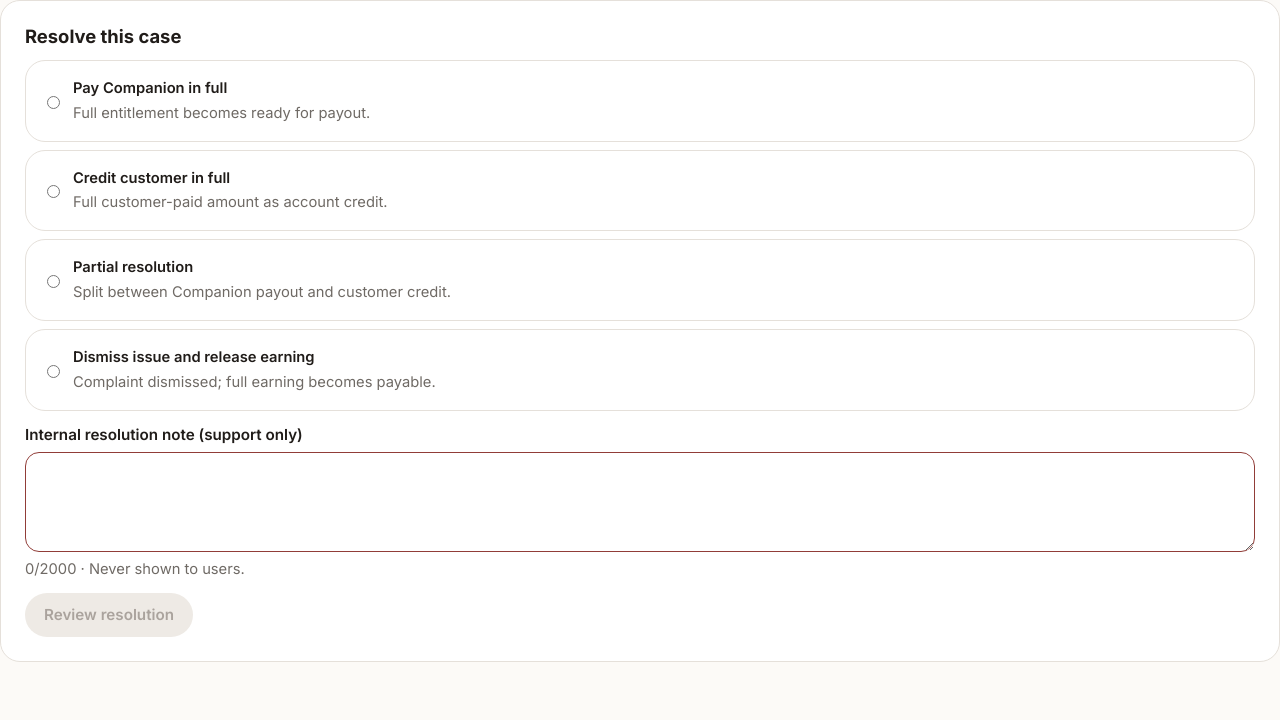
it: IssueResolutionForm › full customer credit confirmation explains no card refund
Click the 2nd radio button at {"x": 54, "y": 192}, box top-left (47, 185), bottom-right (60, 198)
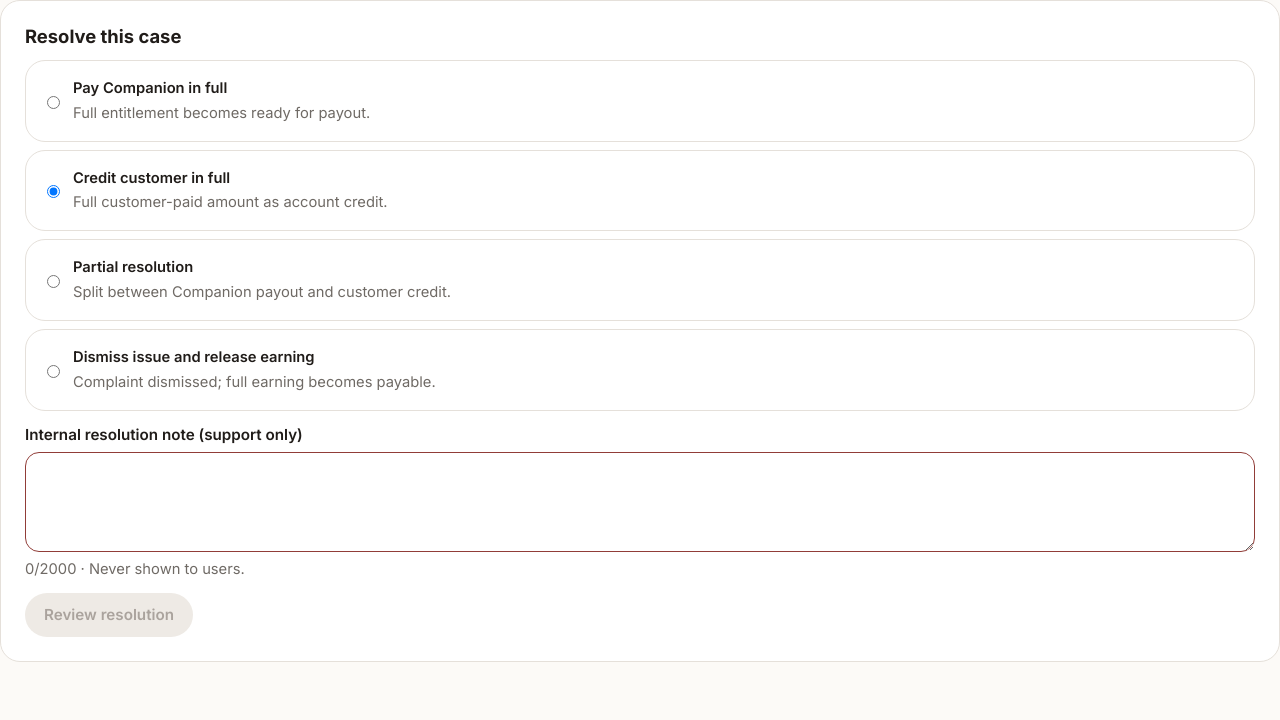
Type "Full credit" into the text box labelled "Internal resolution note (support only)" at {"x": 640, "y": 502}, box top-left (25, 452), bottom-right (1255, 552)
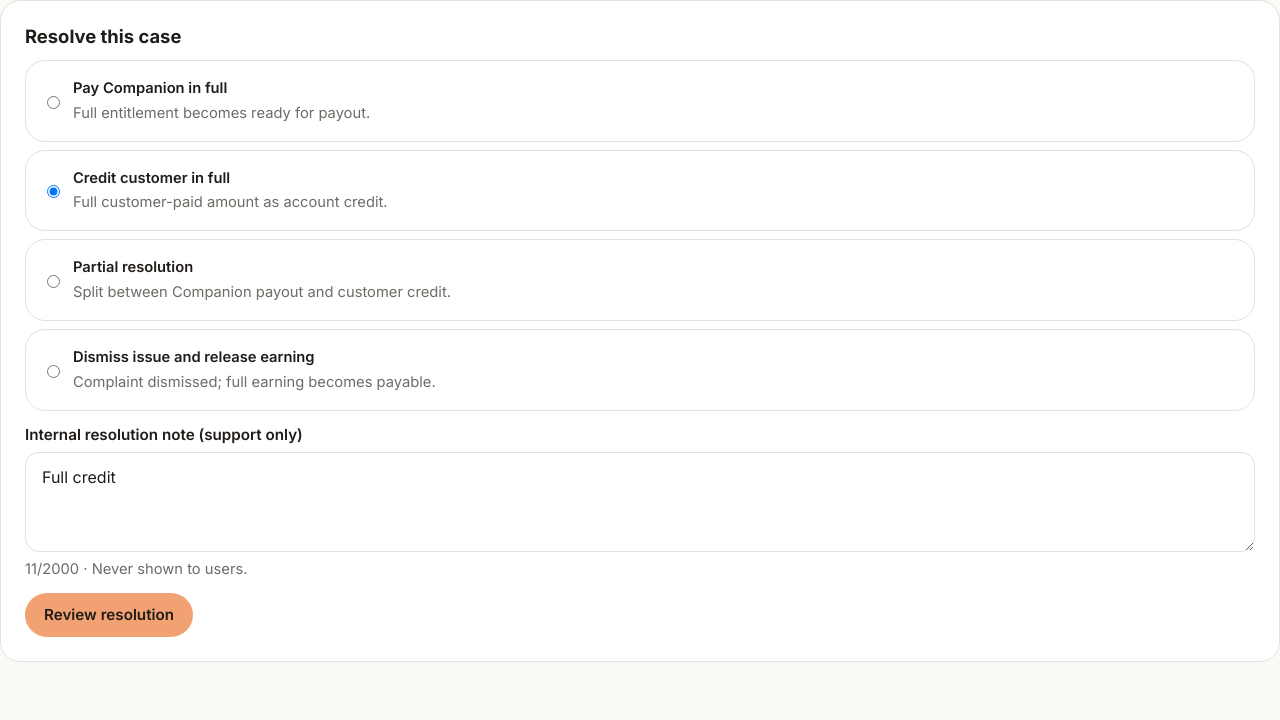
Click the button "Review resolution" at {"x": 109, "y": 615}, box top-left (25, 593), bottom-right (193, 637)
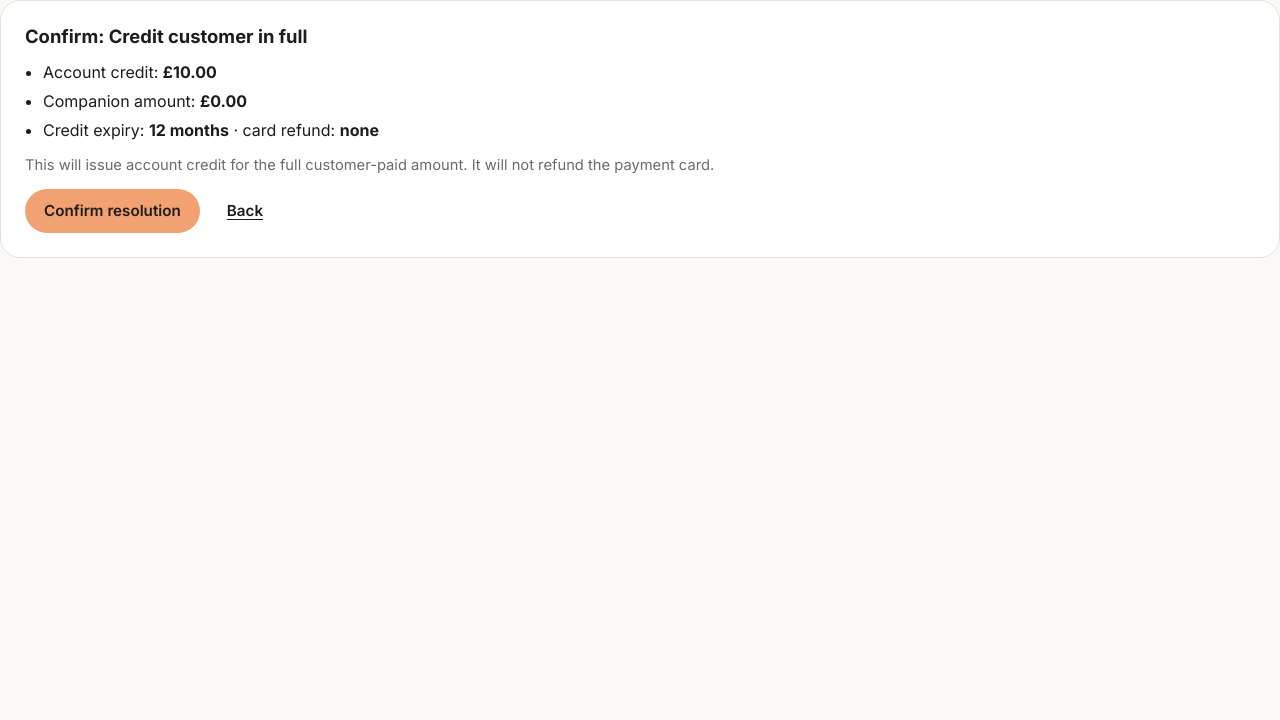
Expected: the text "It will not refund the payment card." is shown, top-left (25, 156), bottom-right (714, 174)
